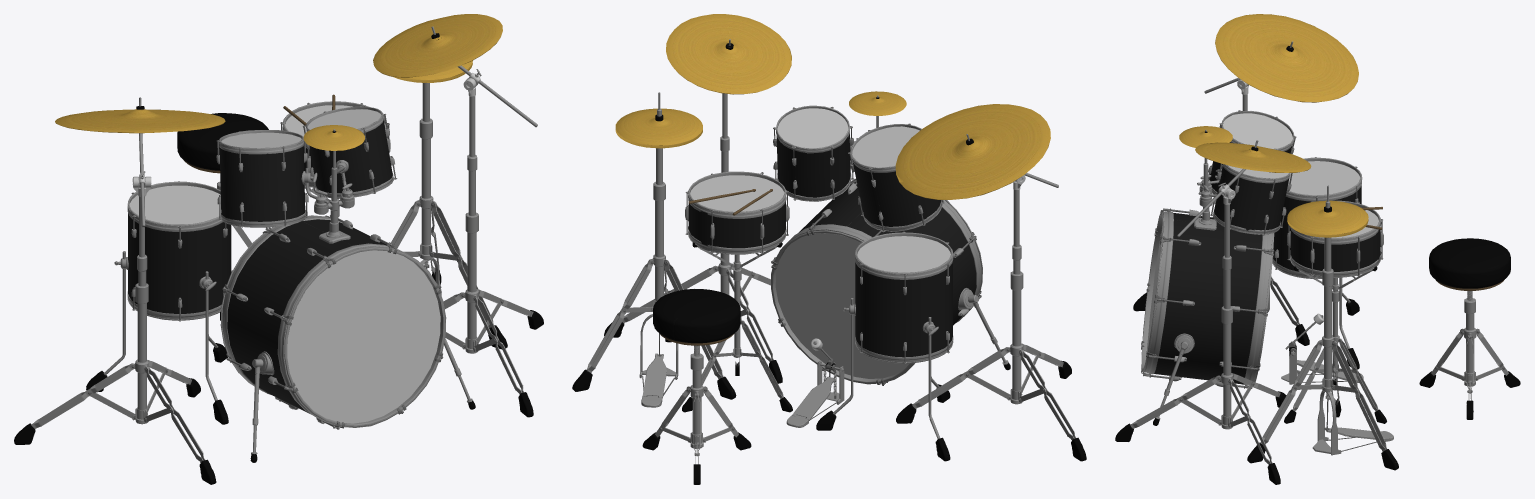
The model's file is drums.glb.
The picture shows the model from 3 angles, left to right: view 1: azimuth 30°, elevation 25°; view 2: azimuth 150°, elevation 25°; view 3: azimuth 270°, elevation 25°; orthographic projection. The views are drawn at different scales.
Visible parts, largest first — view 1: Object_5; view 2: Object_5; view 3: Object_5.
Part boxes in pixels (left/top/right/bottom): Object_5: left=14, top=14, right=543, bottom=484; Object_5: left=572, top=14, right=1086, bottom=484; Object_5: left=1115, top=14, right=1520, bottom=484.
Size of the model in its own units: 2.42 by 1.5 by 1.87.
Materials: 1 (1 with a texture image).
